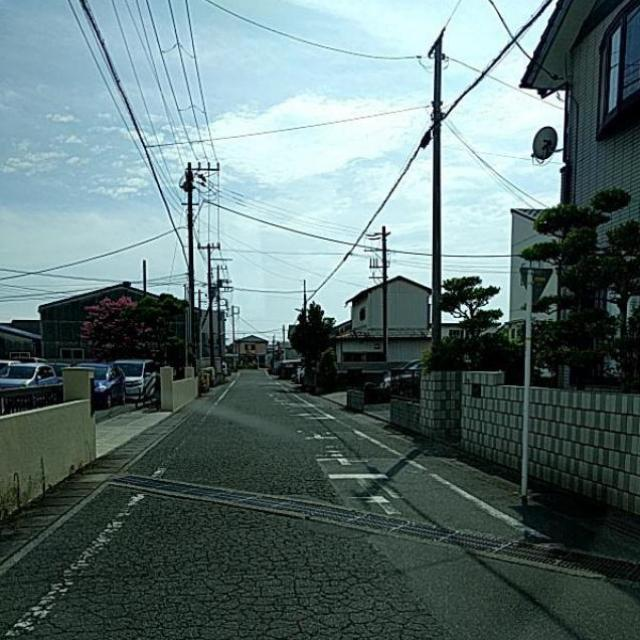Retak Buaya: (32, 500, 440, 640)
